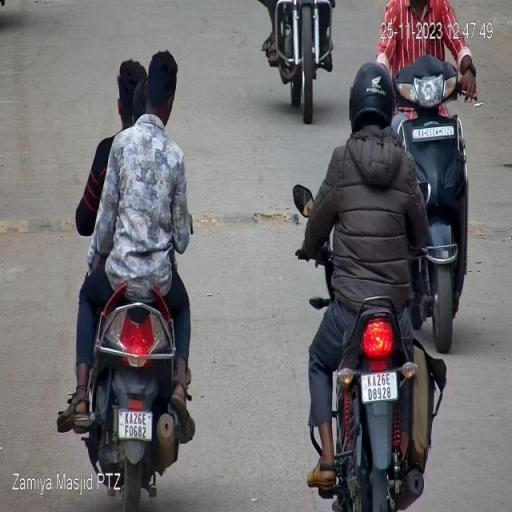tripple riding: (75, 45, 197, 300)
